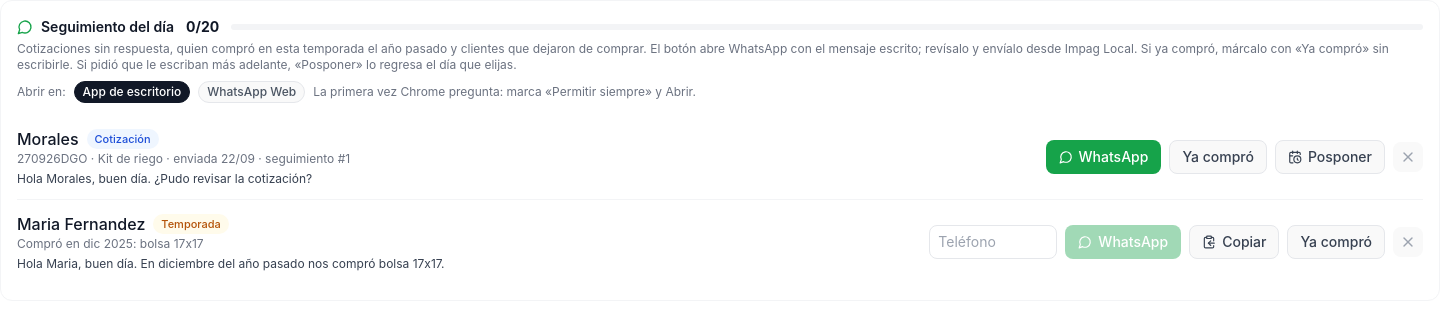
Test: without a number: type it to enable WhatsApp, or copy the message
Check: the text "Maria Fernandez" is shown, box [17,212,145,236]
Check: the button "WhatsApp" in the row of "Maria Fernandez" is disabled, box [1065,225,1181,259]
In the field named "Teléfono de Maria Fernandez": (993, 242) [929,225,1057,259], type "618 123 4567"
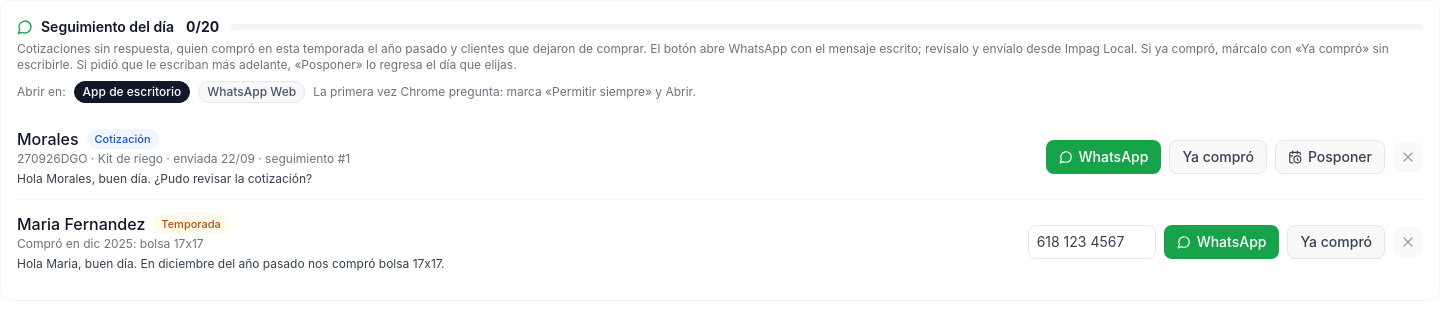
Check: the button "WhatsApp" in the row of "Maria Fernandez" is enabled, box [1164,225,1279,259]
